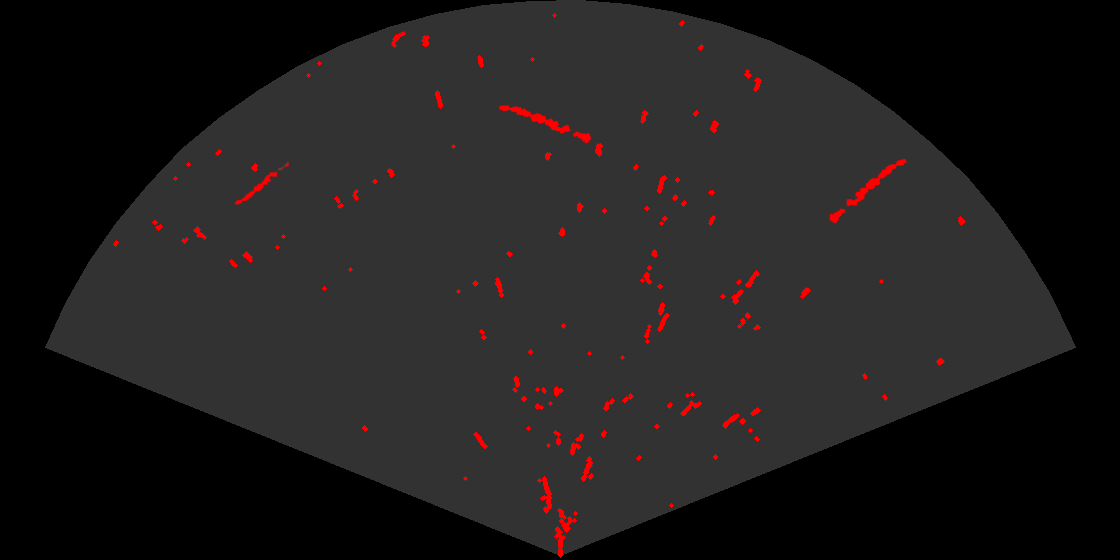chain: (828, 157, 908, 225), (497, 104, 593, 145), (233, 154, 298, 206)
